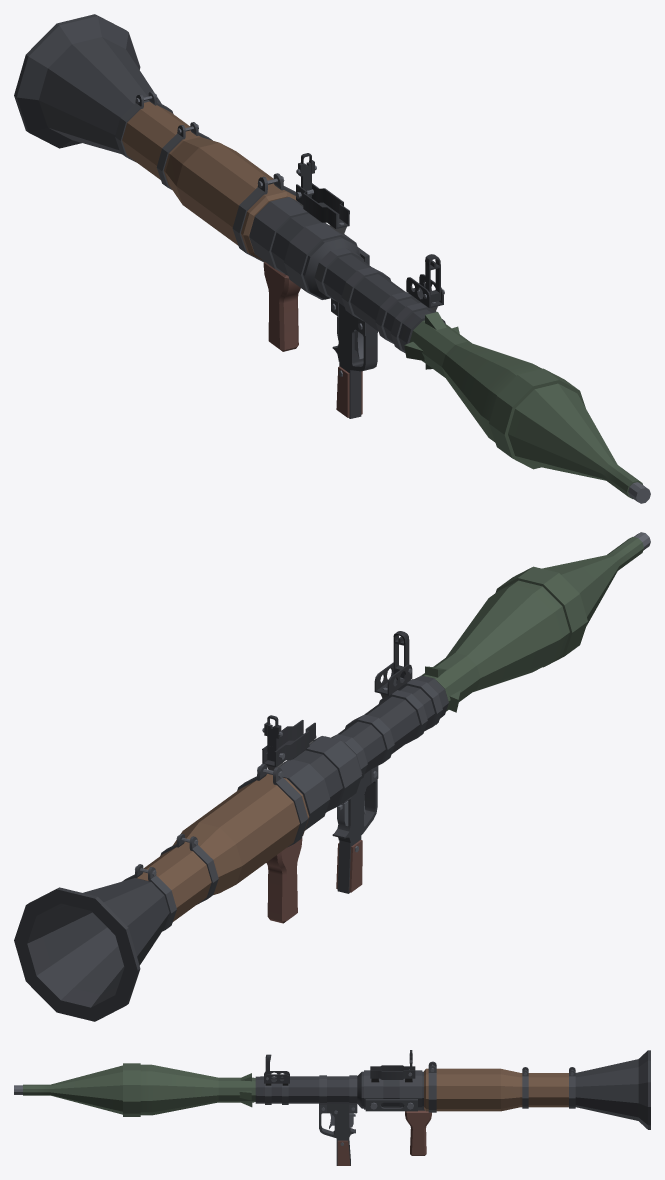
Rendered from RPG Gun!.fbx.
The picture shows the model from 3 angles, top to bottom: view 1: azimuth 30°, elevation 25°; view 2: azimuth 150°, elevation 25°; view 3: azimuth 270°, elevation 25°; orthographic projection. The views are drawn at different scales.
Visible parts, largest first — view 1: pCylinder50, pCylinder3, polySurface97, pCylinder48, polySurface98, polySurface92, pCube55, polySurface101, polySurface16, polySurface93, polySurface94; view 2: pCylinder50, pCylinder3, polySurface97, polySurface98, pCylinder48, polySurface92, pCube55, polySurface16, polySurface101, polySurface94, polySurface93, pCube1; view 3: pCylinder50, pCylinder3, polySurface97, polySurface92, pCylinder48, pCube55, polySurface16, polySurface98, polySurface101, polySurface94, polySurface93, polySurface95 (+2 smaller).
Part boxes in pixels (left/top/right/bottom): pCylinder50: left=404, top=312, right=650, bottom=503; pCylinder3: left=122, top=101, right=296, bottom=261; polySurface97: left=39, top=37, right=161, bottom=154; pCylinder48: left=249, top=197, right=436, bottom=353; polySurface98: left=14, top=14, right=140, bottom=148; polySurface92: left=323, top=254, right=445, bottom=350; pCube55: left=296, top=153, right=443, bottom=308; polySurface101: left=263, top=262, right=300, bottom=351; polySurface16: left=115, top=91, right=295, bottom=262; polySurface93: left=249, top=202, right=359, bottom=299; polySurface94: left=332, top=303, right=377, bottom=371; pCylinder50: left=422, top=532, right=650, bottom=724; pCylinder3: left=137, top=774, right=309, bottom=921; polySurface97: left=43, top=878, right=169, bottom=994; polySurface98: left=14, top=887, right=140, bottom=1021; pCylinder48: left=267, top=679, right=442, bottom=830; polySurface92: left=338, top=675, right=448, bottom=773; pCube55: left=262, top=631, right=412, bottom=767; polySurface16: left=122, top=763, right=308, bottom=931; polySurface101: left=266, top=837, right=302, bottom=923; polySurface94: left=332, top=770, right=377, bottom=842; polySurface93: left=288, top=736, right=362, bottom=812; pCube1: left=337, top=835, right=361, bottom=893; pCylinder50: left=14, top=1063, right=254, bottom=1116; pCylinder3: left=424, top=1068, right=568, bottom=1111; polySurface97: left=575, top=1059, right=638, bottom=1120; polySurface92: left=255, top=1076, right=349, bottom=1103; pCylinder48: left=265, top=1070, right=422, bottom=1112; pCube55: left=264, top=1050, right=415, bottom=1083; polySurface16: left=428, top=1061, right=575, bottom=1112; polySurface98: left=638, top=1050, right=650, bottom=1129; polySurface101: left=405, top=1110, right=431, bottom=1155; polySurface94: left=319, top=1103, right=356, bottom=1138; polySurface93: left=357, top=1071, right=423, bottom=1108; polySurface95: left=365, top=1099, right=417, bottom=1111.
Bounding box in the file's own units: 6.63 × 10.8 × 52.66.
